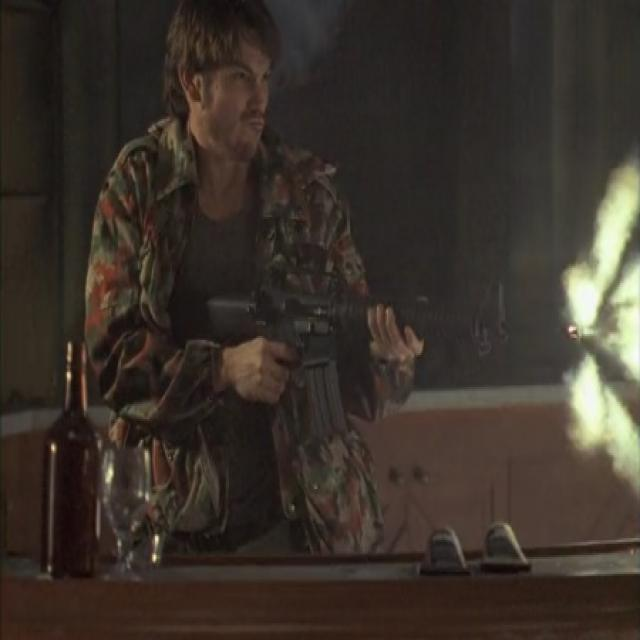rifle: (198, 264, 588, 446)
